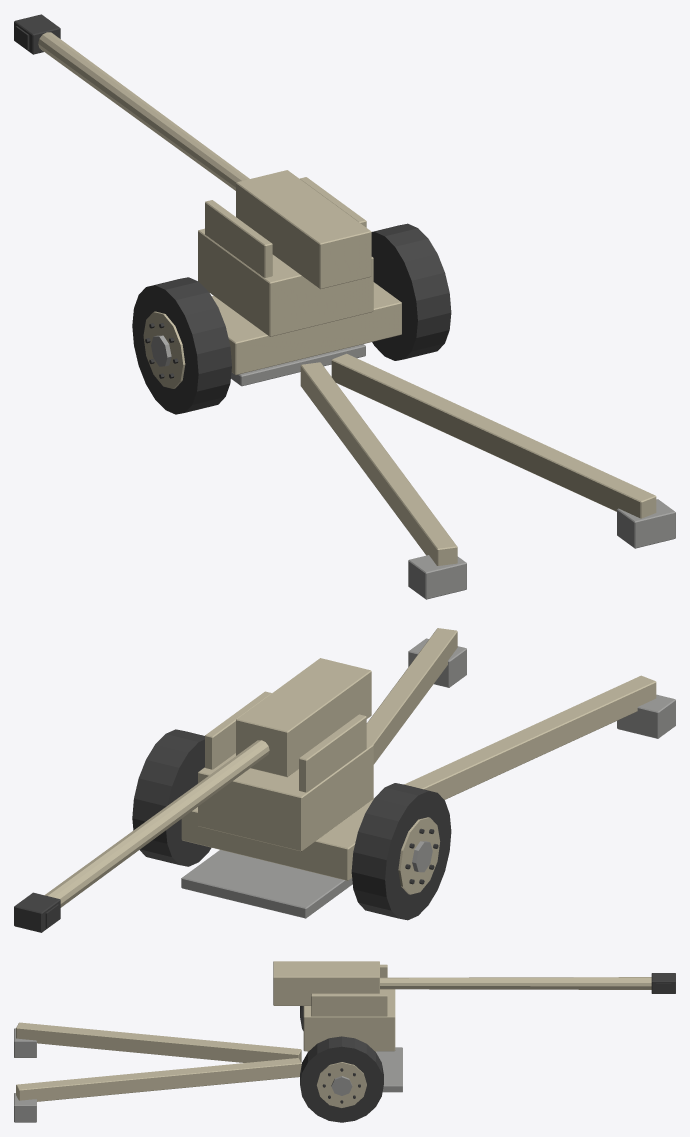
File: rus_tow_d30.glb
The picture shows the model from 3 angles, top to bottom: view 1: azimuth 30°, elevation 25°; view 2: azimuth 150°, elevation 25°; view 3: azimuth 270°, elevation 25°; orthographic projection. The views are drawn at different scales.
Visible parts, largest first — view 1: body, barrel, turret, wheel_0, wheel_1; view 2: body, barrel, turret, wheel_0, wheel_1; view 3: body, barrel, wheel_1, turret.
Boxes of the visible parts, x1,y1,x2,y2 form: body: (212,282,675,599); barrel: (14,14,371,289); turret: (198,177,373,336); wheel_0: (132,277,231,414); wheel_1: (371,223,451,360); body: (181,628,675,918); barrel: (14,658,371,932); turret: (198,691,373,851); wheel_0: (351,783,451,920); wheel_1: (132,729,211,866); body: (14,1022,402,1122); barrel: (273,961,675,1005); wheel_1: (300,1036,383,1122); turret: (303,964,395,1051).
Bounding box in the file's own units: 2.54 × 1.67 × 8.68.
